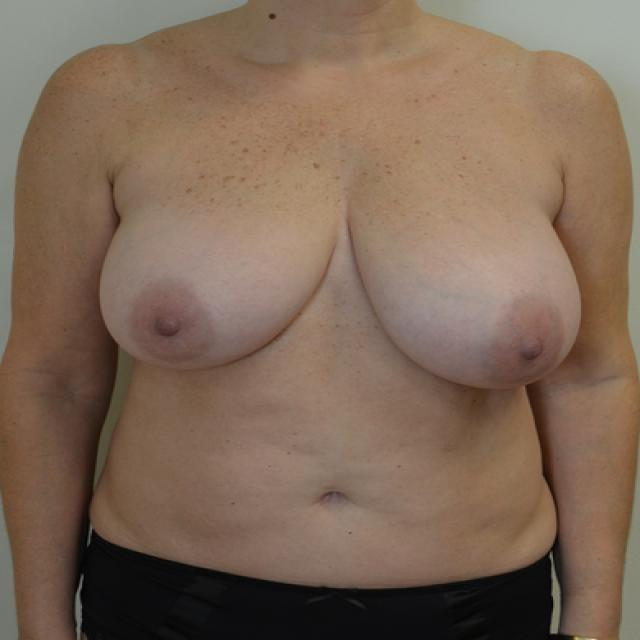Seno ileso: (345, 154, 590, 410), (90, 156, 341, 390)
